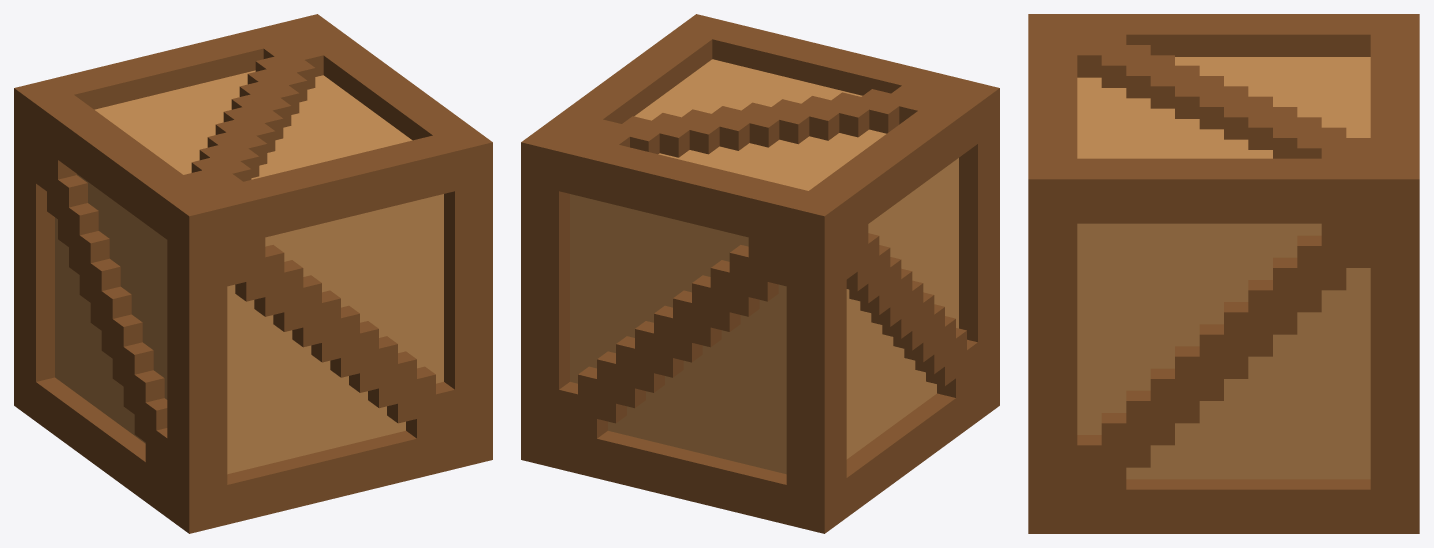
Rendered from Crate.obj.
3 renders of one model, left to right at view 1: azimuth 30°, elevation 25°; view 2: azimuth 150°, elevation 25°; view 3: azimuth 270°, elevation 25°, orthographic. The views are drawn at different scales.
Size of the model in its own units: 1.6 by 1.6 by 1.6.
1 material, 1 textured.
